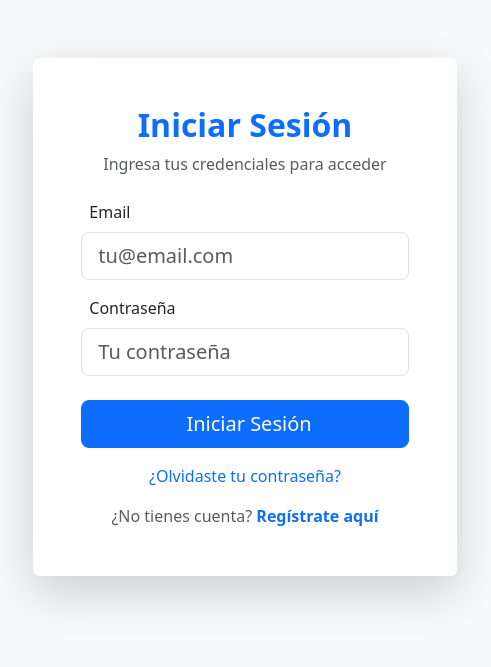
Scenario: Login Component › displays error message on failed login
The width and height of the screenshot is (491, 667).
Type "wrong@example.com" into the field labelled "Email" at {"x": 245, "y": 256}, box [81,232,409,280]
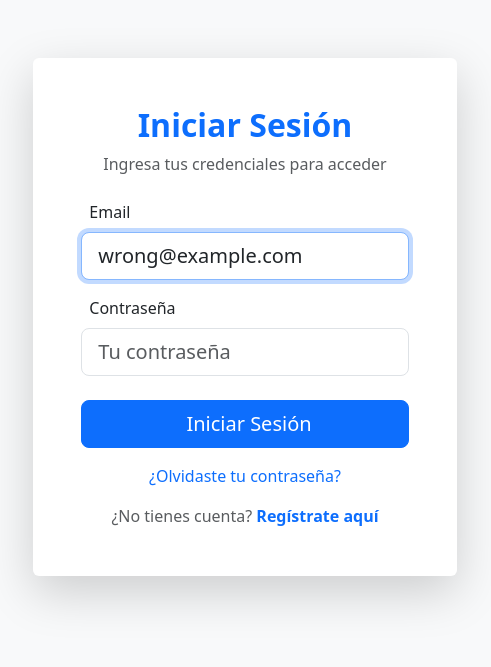
Type "wrongpass" into the password field labelled "Contraseña" at {"x": 245, "y": 352}, box [81,328,409,376]
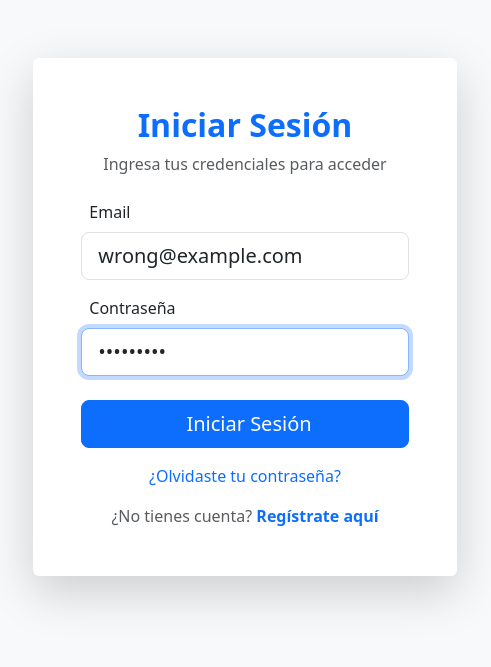
Click the button "Iniciar Sesión" at {"x": 245, "y": 424}, box [81,400,409,448]
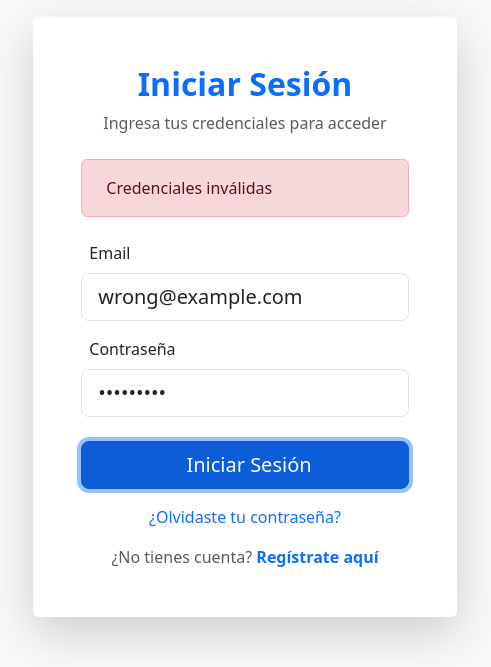
Expected: the text "Credenciales inválidas" is shown, [81,159,409,217]
